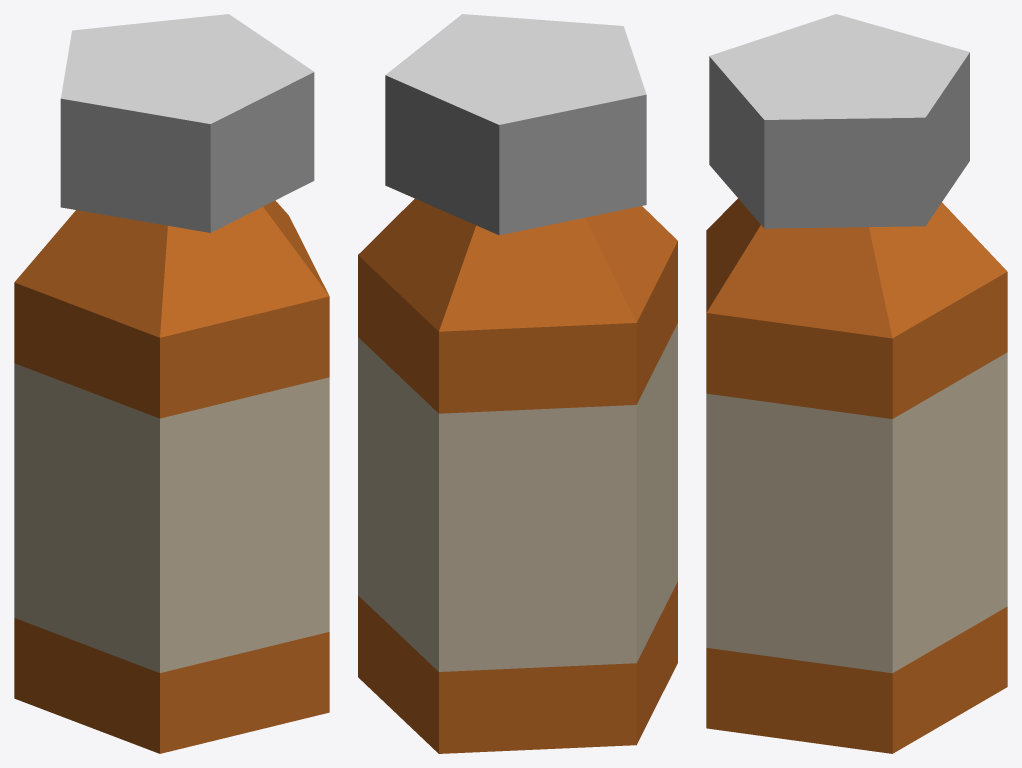
Rendered from TB_Prop_Bottle_K.FBX.
The picture shows the model from 3 angles, left to right: view 1: azimuth 30°, elevation 25°; view 2: azimuth 150°, elevation 25°; view 3: azimuth 270°, elevation 25°; orthographic projection.
Parts seen in each view (by area): view 1: TB_Prop_Bottle_K; view 2: TB_Prop_Bottle_K; view 3: TB_Prop_Bottle_K.
Boxes of the visible parts, x1,y1,x2,y2 form: TB_Prop_Bottle_K: (14,14,329,753); TB_Prop_Bottle_K: (358,14,677,753); TB_Prop_Bottle_K: (706,14,1007,753).
Size of the model in its own units: 0.2856 by 0.6123 by 0.2716.
